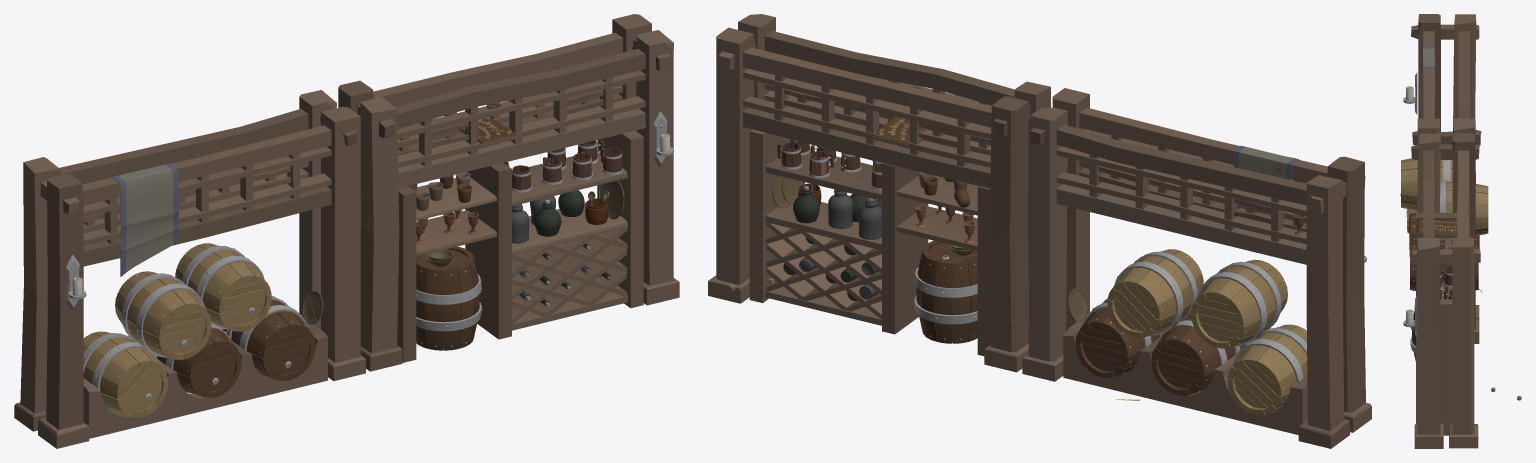
Rendered from Parete_bancone.fbx.
3 views of the same model, side by side, from view 1: azimuth 30°, elevation 25°; view 2: azimuth 150°, elevation 25°; view 3: azimuth 270°, elevation 25° (orthographic). The views are drawn at different scales.
Parts seen in each view (by area): view 1: Cube.172, Cube.159, Cube.161, Cube.170, Cube.196, Cube.055, Cube.179, Cube.152, towel.002, Cube.203, Cube.178, Cube.154 (+40 smaller); view 2: Cube.183, Cube.196, Cube.194, Cube.180, Cube.055, Cube.161, Cube.203, Cube.179, Cube.193, Cube.192, Cube.152, Cube.198 (+45 smaller); view 3: Cube.170, Cube.180, Cube.151, Cube.183, Cube.196, Cube.161, Cube.172, Cube.203, Cube.193, Cube.179, Cylinder.313, Cylinder.335 (+19 smaller).
Part boxes in pixels (bbox=[...]): Cube.172: bbox=[360, 97, 399, 353]; Cube.159: bbox=[321, 106, 360, 362]; Cube.161: bbox=[46, 173, 83, 429]; Cube.170: bbox=[636, 30, 673, 285]; Cube.196: bbox=[20, 157, 60, 413]; Cube.055: bbox=[83, 316, 327, 438]; Cube.179: bbox=[395, 49, 645, 128]; Cube.152: bbox=[465, 163, 511, 339]; towel.002: bbox=[112, 163, 179, 276]; Cube.203: bbox=[59, 109, 308, 184]; Cube.178: bbox=[397, 70, 645, 167]; Cube.154: bbox=[512, 227, 627, 324]; Cube.183: bbox=[989, 96, 1028, 352]; Cube.196: bbox=[1306, 175, 1344, 431]; Cube.194: bbox=[1028, 107, 1067, 361]; Cube.180: bbox=[716, 27, 753, 284]; Cube.055: bbox=[1063, 312, 1307, 434]; Cube.161: bbox=[1327, 156, 1365, 412]; Cube.203: bbox=[1056, 124, 1306, 205]; Cube.179: bbox=[764, 31, 1014, 105]; Cube.193: bbox=[743, 47, 991, 127]; Cube.192: bbox=[743, 68, 991, 167]; Cube.152: bbox=[882, 163, 928, 334]; Cube.198: bbox=[1056, 184, 1306, 264]; Cube.170: bbox=[1417, 238, 1440, 434]; Cube.180: bbox=[1452, 237, 1474, 434]; Cube.151: bbox=[1416, 299, 1452, 435]; Cube.183: bbox=[1452, 133, 1475, 329]; Cube.196: bbox=[1453, 14, 1476, 183]; Cube.161: bbox=[1418, 14, 1440, 131]; Cube.172: bbox=[1418, 133, 1440, 212]; Cube.203: bbox=[1458, 31, 1470, 118]; Cube.193: bbox=[1456, 150, 1469, 237]; Cube.179: bbox=[1423, 150, 1434, 237]; Cylinder.313: bbox=[1401, 158, 1452, 210]; Cylinder.335: bbox=[1446, 181, 1488, 235].
Bounding box in the file's own units: 750 × 297 × 162.
28 materials, 2 textured.
